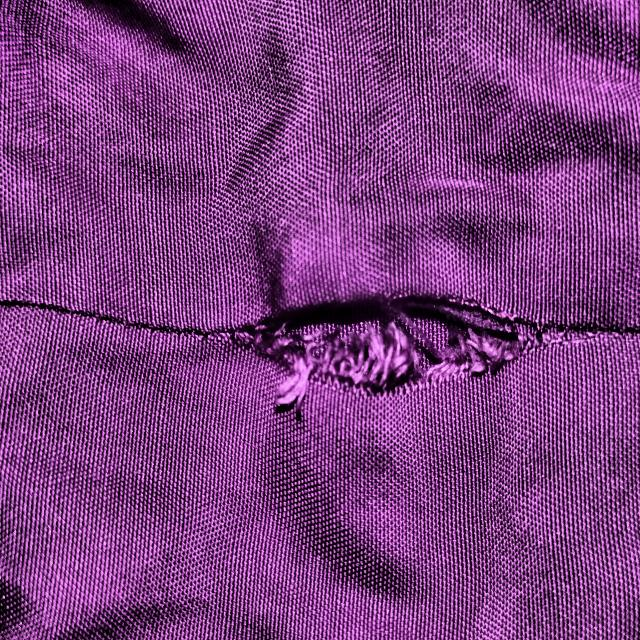seam: (233, 250, 582, 477)
